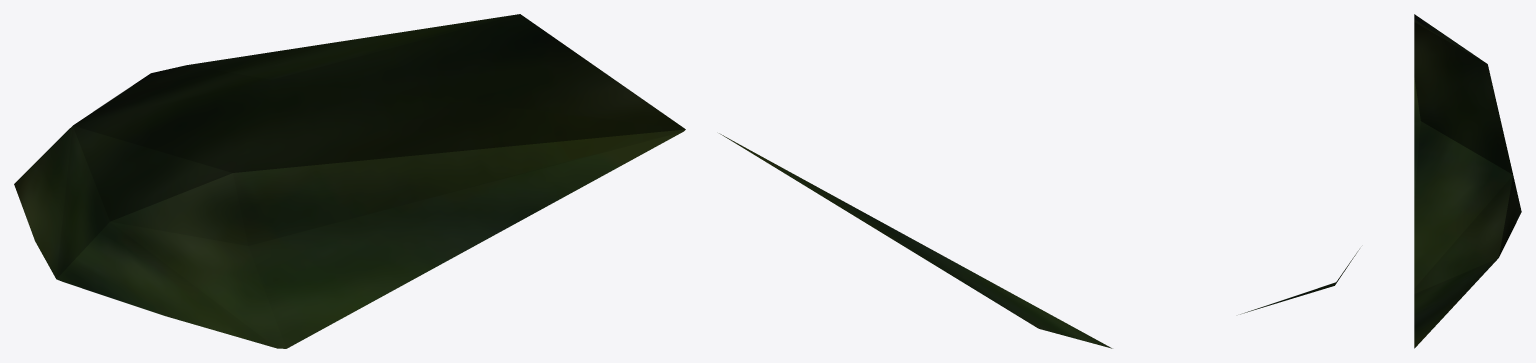
The picture shows the model from 3 angles, left to right: view 1: azimuth 30°, elevation 25°; view 2: azimuth 150°, elevation 25°; view 3: azimuth 270°, elevation 25°; orthographic projection. The views are drawn at different scales.
Bounding box in the file's own units: 0.5156 × 0.2264 × 0.0956.
Materials: 1 (1 with a texture image).
